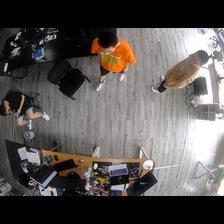normal: (151, 49, 207, 97), (92, 35, 132, 96), (1, 91, 50, 128)
